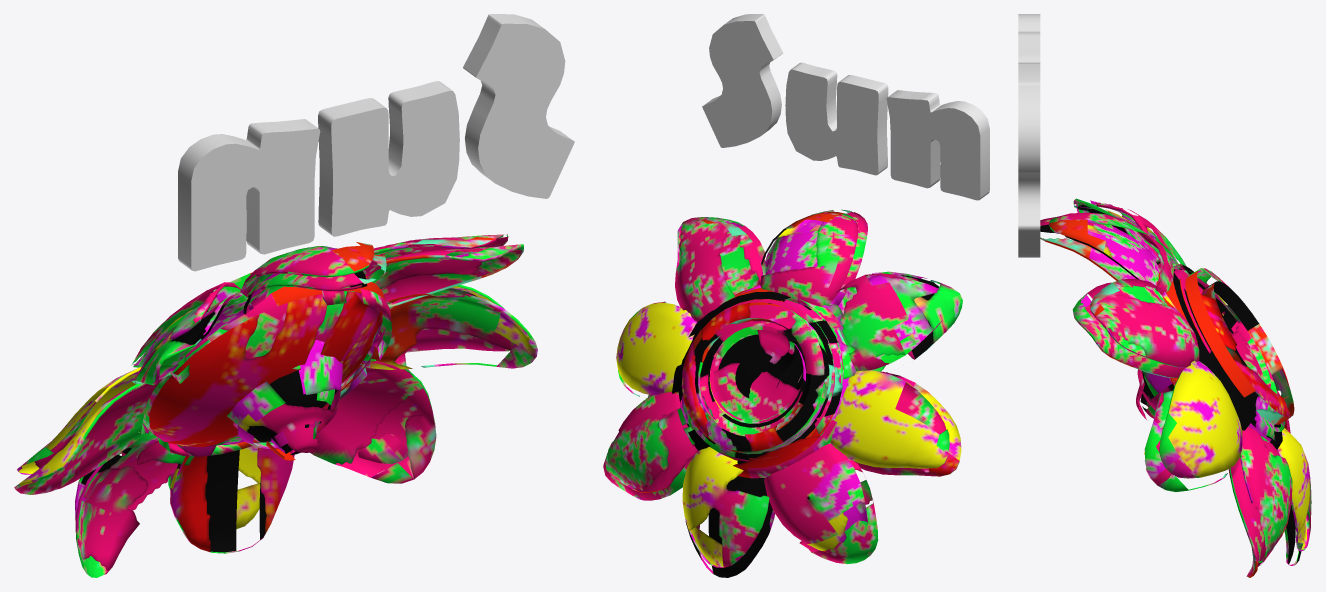
Rendered from SUN.fbx.
The picture shows the model from 3 angles, left to right: view 1: azimuth 30°, elevation 25°; view 2: azimuth 150°, elevation 25°; view 3: azimuth 270°, elevation 25°; orthographic projection. The views are drawn at different scales.
Visible parts, largest first — view 1: CHOOSESUNFLOWER, Text.002; view 2: CHOOSESUNFLOWER, Text.002; view 3: CHOOSESUNFLOWER, Text.002.
Boxes of the visible parts, x1,y1,x2,y2 form: CHOOSESUNFLOWER: (14,234,537,577); Text.002: (178,14,574,271); CHOOSESUNFLOWER: (603,209,962,577); Text.002: (702,14,989,200); CHOOSESUNFLOWER: (1040,198,1311,577); Text.002: (1018,14,1040,257).
Bounding box in the file's own units: 47.85 × 58.26 × 29.89.
